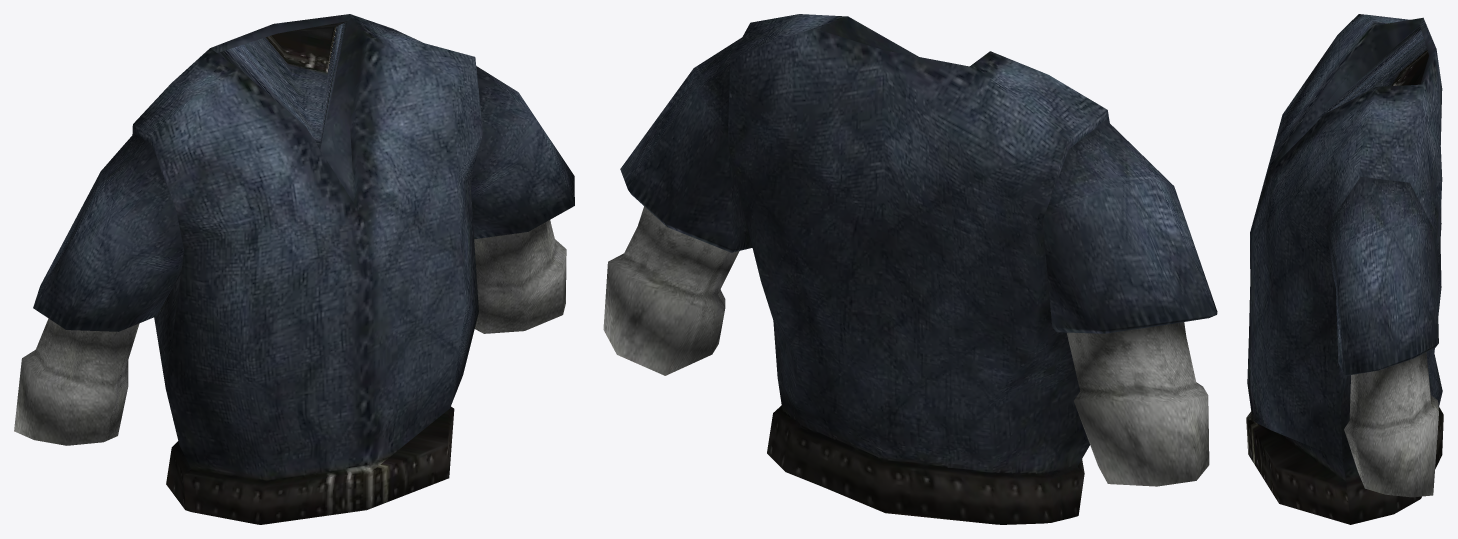
File: STATIC_GS_SDRP_OSADA_PRACOWNICZKA.glb
The picture shows the model from 3 angles, left to right: view 1: azimuth 30°, elevation 25°; view 2: azimuth 150°, elevation 25°; view 3: azimuth 270°, elevation 25°; orthographic projection. The views are drawn at different scales.
Visible parts, largest first — view 1: Mesh; view 2: Mesh; view 3: Mesh.
Boxes of the visible parts, x1=… form: Mesh: x1=14, y1=14, x2=574, y2=524; Mesh: x1=603, y1=14, x2=1217, y2=524; Mesh: x1=1246, y1=14, x2=1443, y2=524.
Bounding box in the file's own units: 0.6359 × 0.4772 × 0.2054.
Materials: 2 (2 with a texture image).
